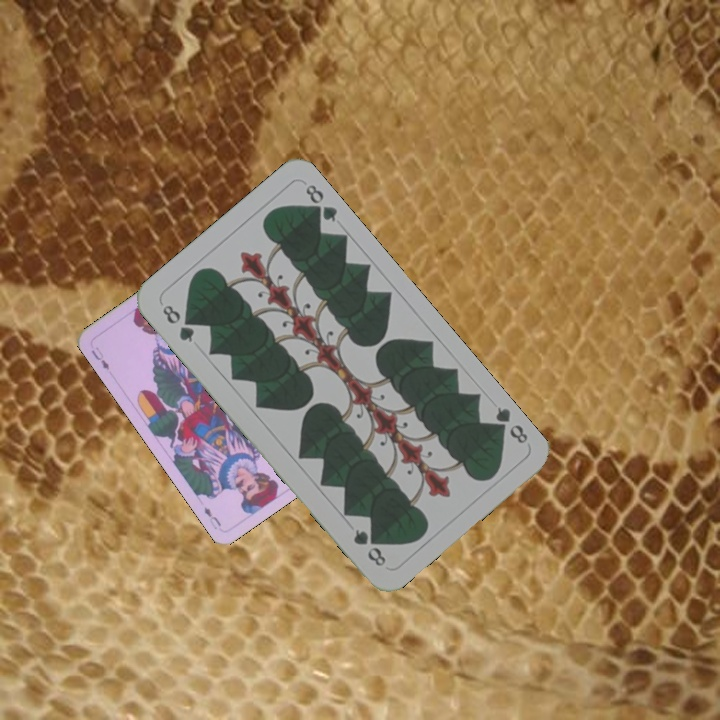EU: (87, 343, 112, 373)
G8: (487, 402, 531, 447), (158, 300, 197, 346)
